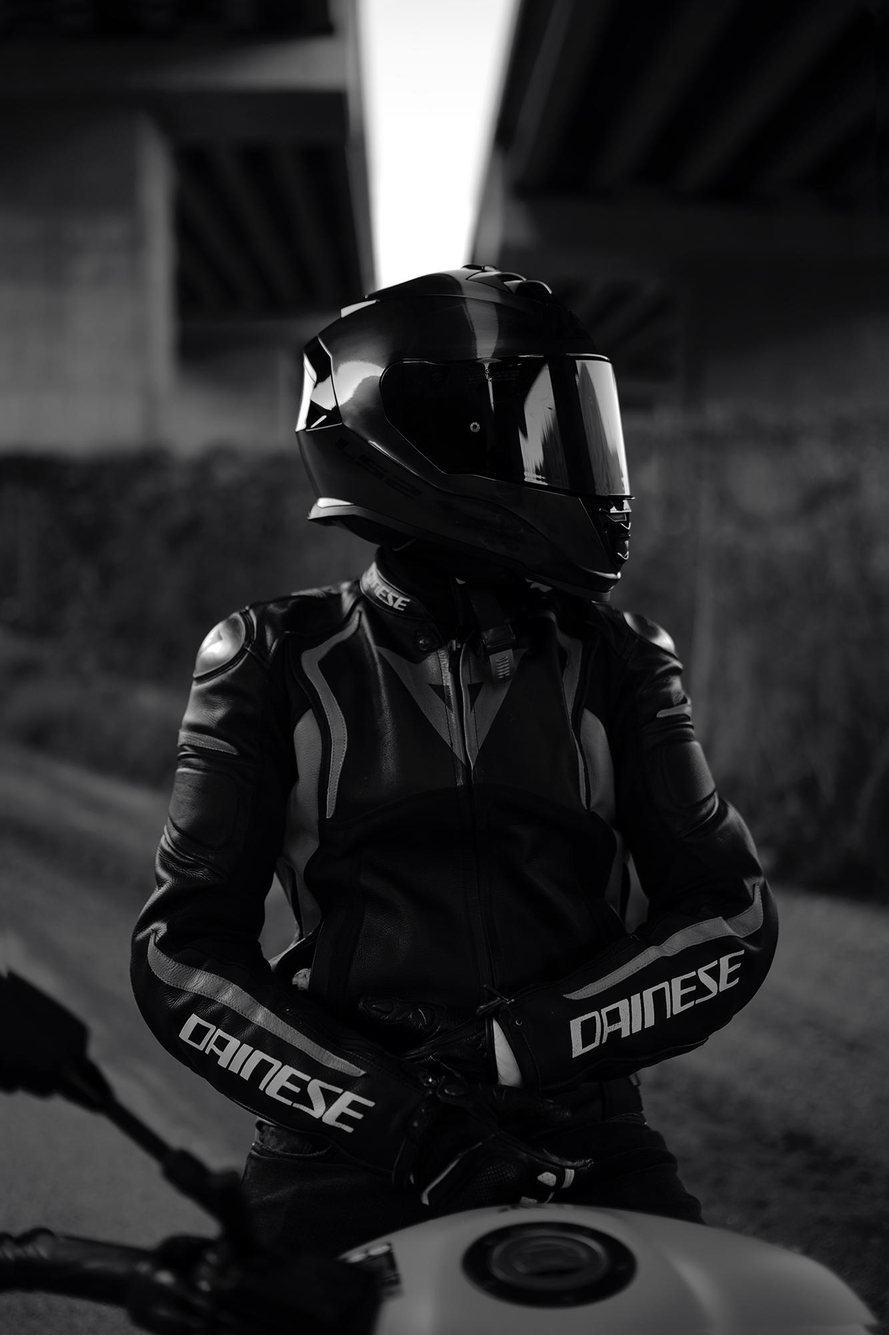helmet: (293, 260, 638, 606)
